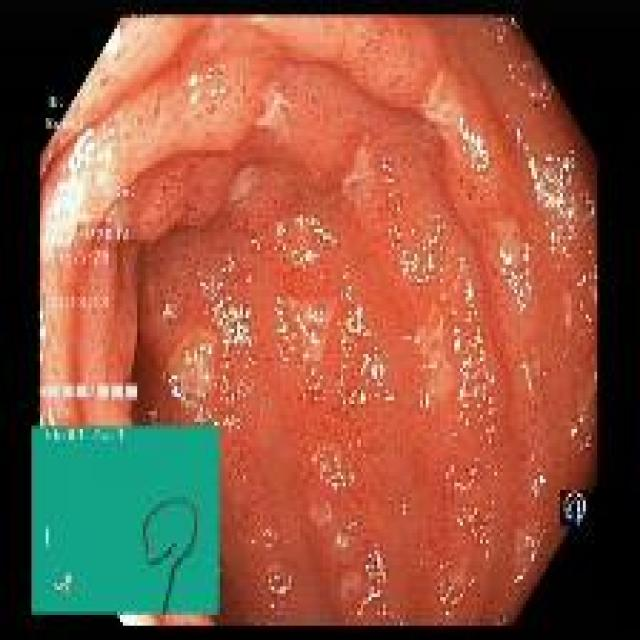ulcerative-colitis: (41, 17, 596, 623)
